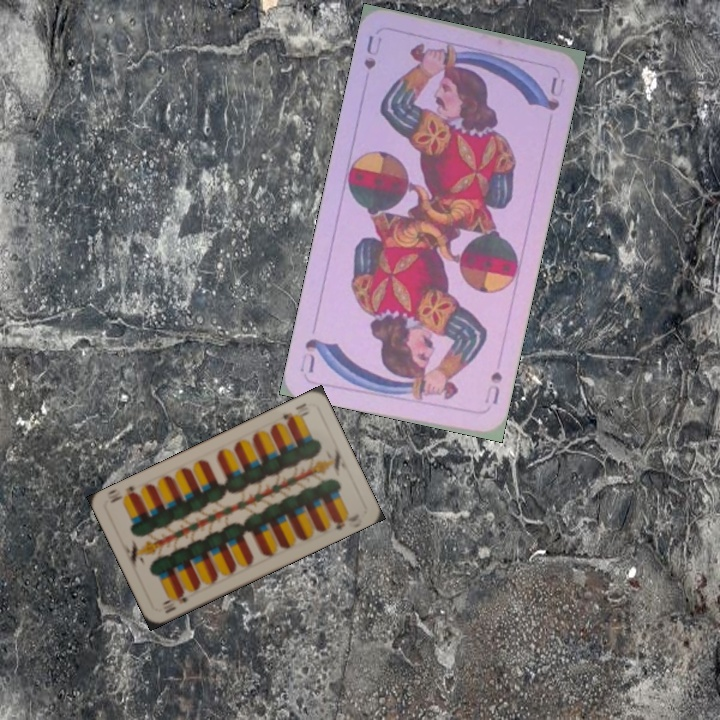E10: (158, 588, 191, 616), (279, 399, 313, 426)
SU: (360, 31, 385, 72), (481, 367, 505, 407)
